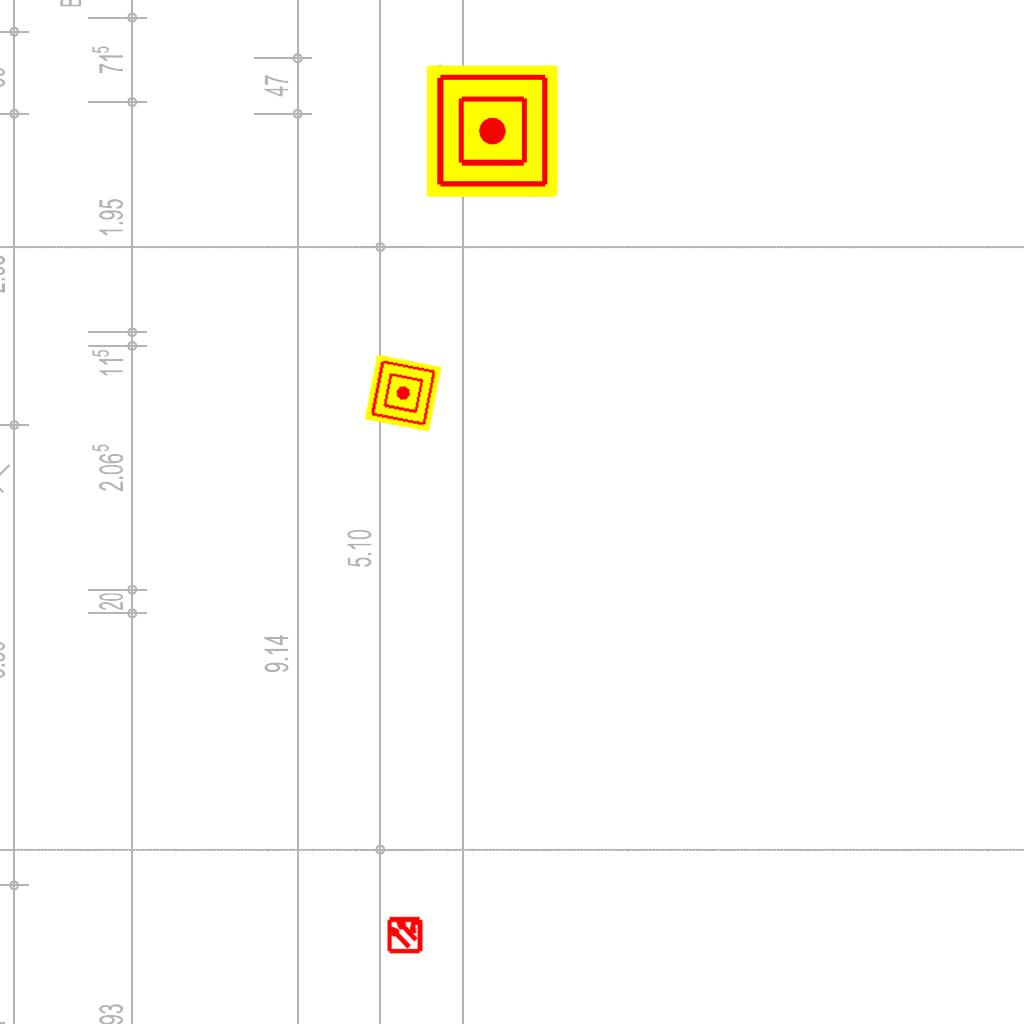NAM-Nichtautomatischer_Melder: (426, 65, 558, 197), (364, 354, 442, 432)
OT_Multisensormelder_(Kombination_RMO_WMD): (377, 906, 433, 962)
